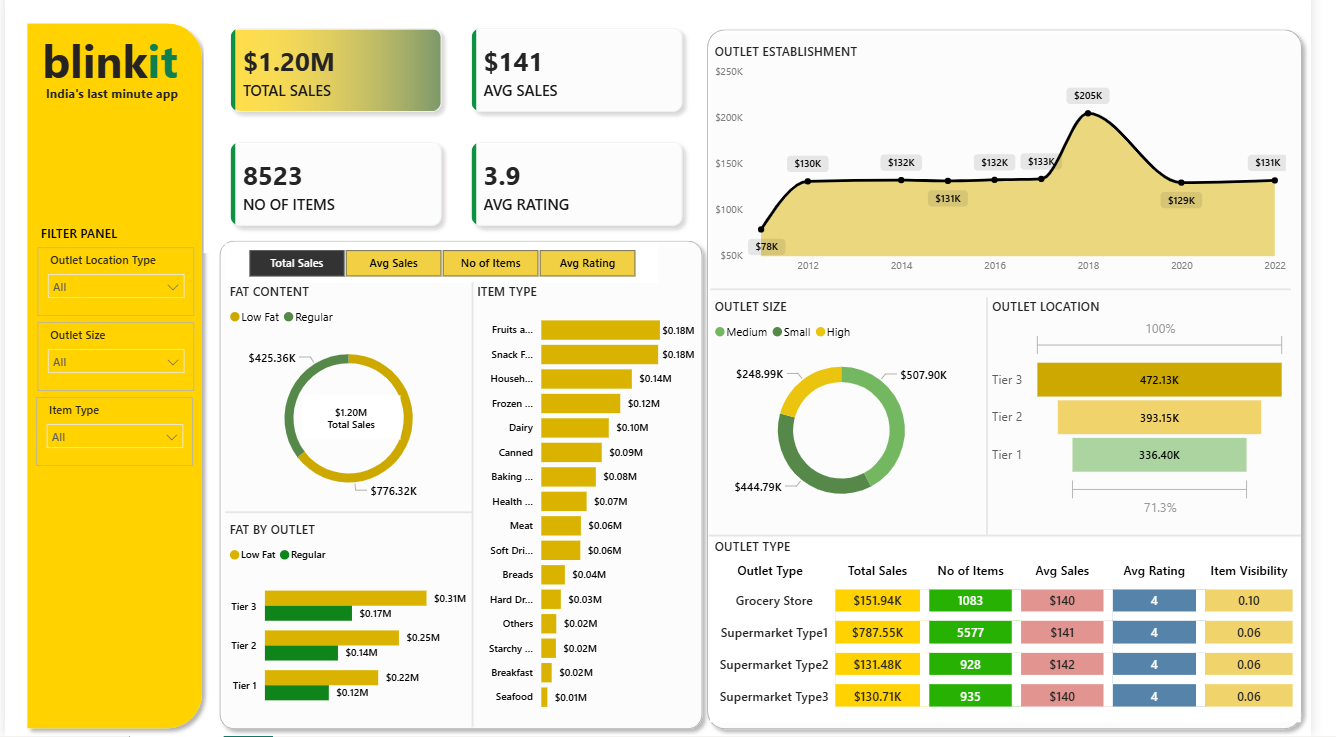

The page's visual inventory and layout, read from the dashboard file:
{"tool":"powerbi","page":{"name":"Page 1","canvas":[1400,800],"ordinal":0},"visuals":[{"type":"shape","box":[15,25.5,205.6,774.4],"z":0},{"type":"textbox","box":[34.5,36,165.1,75],"z":1000},{"type":"textbox","box":[39,94.6,154.6,31.5],"z":2000},{"type":"cardVisual","fields":{"Data":["BlinkIT Grocery Data.Total Sales","BlinkIT Grocery Data.Avg Sales","BlinkIT Grocery Data.No of Items","BlinkIT Grocery Data.Avg Rating"]},"box":[213.1,10.5,543.3,270.2],"z":3000},{"type":"shape","box":[220.6,258.1,535.8,541.8],"z":4000},{"type":"donutChart","title":"FAT CONTENT","fields":{"Y":["BlinkIT Grocery Data.Total Sales"],"Category":["BlinkIT Grocery Data.Item Fat Content"]},"box":[235.9,312.3,265.4,246.7],"z":5000},{"type":"slicer","fields":{"Values":["Metrics.Metrics"]},"box":[235.6,270.2,463.8,42],"z":6000},{"type":"cardVisual","fields":{"Data":["BlinkIT Grocery Data.Total Sales"]},"box":[313.7,429.2,115.6,57],"z":7000},{"type":"clusteredBarChart","title":"FAT BY OUTLET","fields":{"Y":["BlinkIT Grocery Data.Total Sales"],"Category":["BlinkIT Grocery Data.Outlet Location Type"],"Series":["BlinkIT Grocery Data.Item Fat Content"]},"box":[235.9,568.4,265.4,215.8],"z":8000},{"type":"shape","box":[235.9,524.1,265.4,69.7],"z":9000},{"type":"shape","box":[492,312.3,18.8,477.2],"z":10000},{"type":"barChart","title":"ITEM TYPE","fields":{"Y":["BlinkIT Grocery Data.Total Sales"],"Category":["BlinkIT Grocery Data.Item Type"]},"box":[501.3,312.2,243.1,471.3],"z":11000},{"type":"shape","box":[744.4,31.5,655.9,768.4],"z":12000},{"type":"lineChart","title":"OUTLET ESTABLISHMENT","fields":{"Y":["BlinkIT Grocery Data.Total Sales"],"Category":["BlinkIT Grocery Data.Outlet Establishment Year"]},"box":[756.4,55.5,622.9,256.6],"z":13000},{"type":"shape","box":[756.4,306.2,622.9,28.5],"z":14000},{"type":"donutChart","title":"OUTLET SIZE","fields":{"Y":["BlinkIT Grocery Data.Total Sales"],"Category":["BlinkIT Grocery Data.Outlet Size"]},"box":[756.4,328.7,282.2,240.1],"z":15000},{"type":"shape","box":[1038.6,328.7,28.5,255.1],"z":16000},{"type":"funnel","title":"OUTLET LOCATION","fields":{"Y":["Sum(BlinkIT Grocery Data.Sales)"],"Category":["BlinkIT Grocery Data.Outlet Location Type"]},"box":[1053.6,328.7,325.7,240.1],"z":17000},{"type":"shape","box":[754.9,570.3,634.9,28.5],"z":18000},{"type":"pivotTable","title":"OUTLET TYPE","fields":{"Rows":["BlinkIT Grocery Data.Outlet Type"],"Values":["BlinkIT Grocery Data.Total Sales","BlinkIT Grocery Data.No of Items","BlinkIT Grocery Data.Avg Sales","BlinkIT Grocery Data.Avg Rating","Avg(BlinkIT Grocery Data.Item Visibility)"]},"box":[756.4,585.3,633.4,198.1],"z":19000},{"type":"slicer","fields":{"Values":["BlinkIT Grocery Data.Outlet Location Type"]},"box":[34.5,274.7,168.1,73.5],"z":20000},{"type":"slicer","fields":{"Values":["BlinkIT Grocery Data.Outlet Size"]},"box":[34.5,355.7,168.1,73.5],"z":21000},{"type":"slicer","fields":{"Values":["BlinkIT Grocery Data.Item Type"]},"box":[33,435.3,168.1,73.5],"z":22000},{"type":"textbox","box":[33.5,245.3,99.2,29.5],"z":23000}]}

Visuals, with their boxes on the page's 1400x800 design canvas (x1, y1, x2, y2). These are canvas units, not pixel positions in the 1336x737 screenshot, which may show the page scaled, cropped or inside an application window:
shape: rect(15, 26, 221, 800)
textbox: rect(34, 36, 200, 111)
textbox: rect(39, 95, 194, 126)
cardVisual - BlinkIT Grocery Data.Total Sales x BlinkIT Grocery Data.Avg Sales: rect(213, 10, 756, 281)
shape: rect(221, 258, 756, 800)
"FAT CONTENT" donutChart: rect(236, 312, 501, 559)
slicer - Metrics.Metrics: rect(236, 270, 699, 312)
cardVisual - BlinkIT Grocery Data.Total Sales: rect(314, 429, 429, 486)
"FAT BY OUTLET" clusteredBarChart: rect(236, 568, 501, 784)
shape: rect(236, 524, 501, 594)
shape: rect(492, 312, 511, 790)
"ITEM TYPE" barChart: rect(501, 312, 744, 784)
shape: rect(744, 32, 1400, 800)
"OUTLET ESTABLISHMENT" lineChart: rect(756, 56, 1379, 312)
shape: rect(756, 306, 1379, 335)
"OUTLET SIZE" donutChart: rect(756, 329, 1039, 569)
shape: rect(1039, 329, 1067, 584)
"OUTLET LOCATION" funnel: rect(1054, 329, 1379, 569)
shape: rect(755, 570, 1390, 599)
"OUTLET TYPE" pivotTable: rect(756, 585, 1390, 783)
slicer - BlinkIT Grocery Data.Outlet Location Type: rect(34, 275, 203, 348)
slicer - BlinkIT Grocery Data.Outlet Size: rect(34, 356, 203, 429)
slicer - BlinkIT Grocery Data.Item Type: rect(33, 435, 201, 509)
textbox: rect(34, 245, 133, 275)
